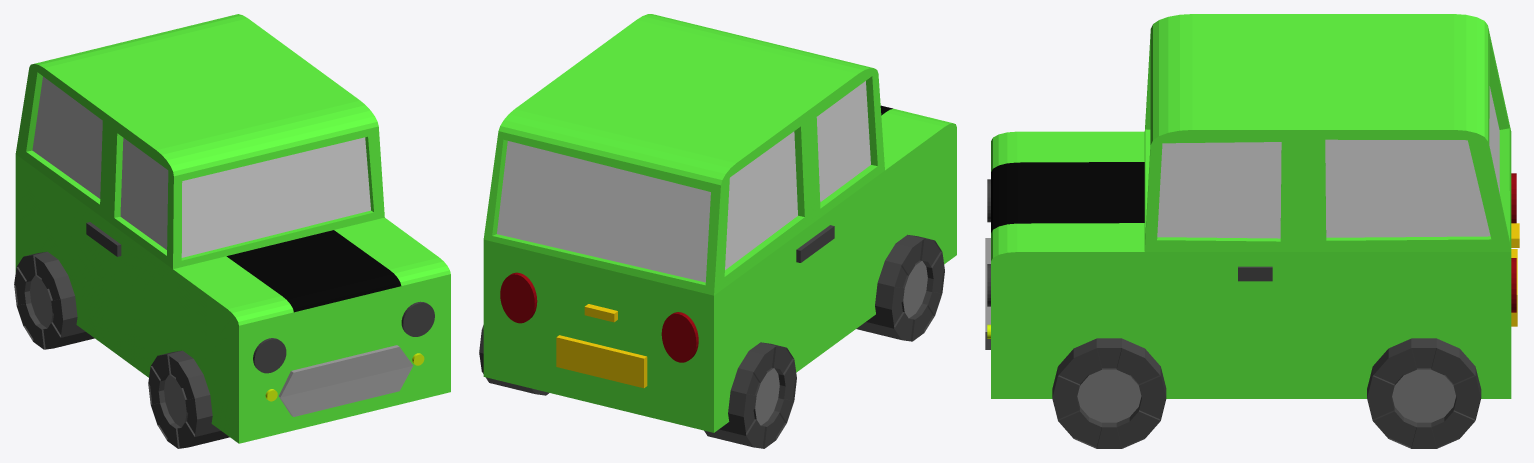
File: Mini_Austin.glb
3 renders of one model, left to right at view 1: azimuth 30°, elevation 25°; view 2: azimuth 150°, elevation 25°; view 3: azimuth 270°, elevation 25°, orthographic. The views are drawn at different scales.
Parts seen in each view (by area): view 1: โครงรถ; view 2: โครงรถ; view 3: โครงรถ.
Part boxes in pixels (x1,y1,x2,y2): โครงรถ: (14,14,450,448); โครงรถ: (479,14,956,448); โครงรถ: (985,14,1519,448).
Bounding box in the file's own units: 2.3 × 2.38 × 3.75.
